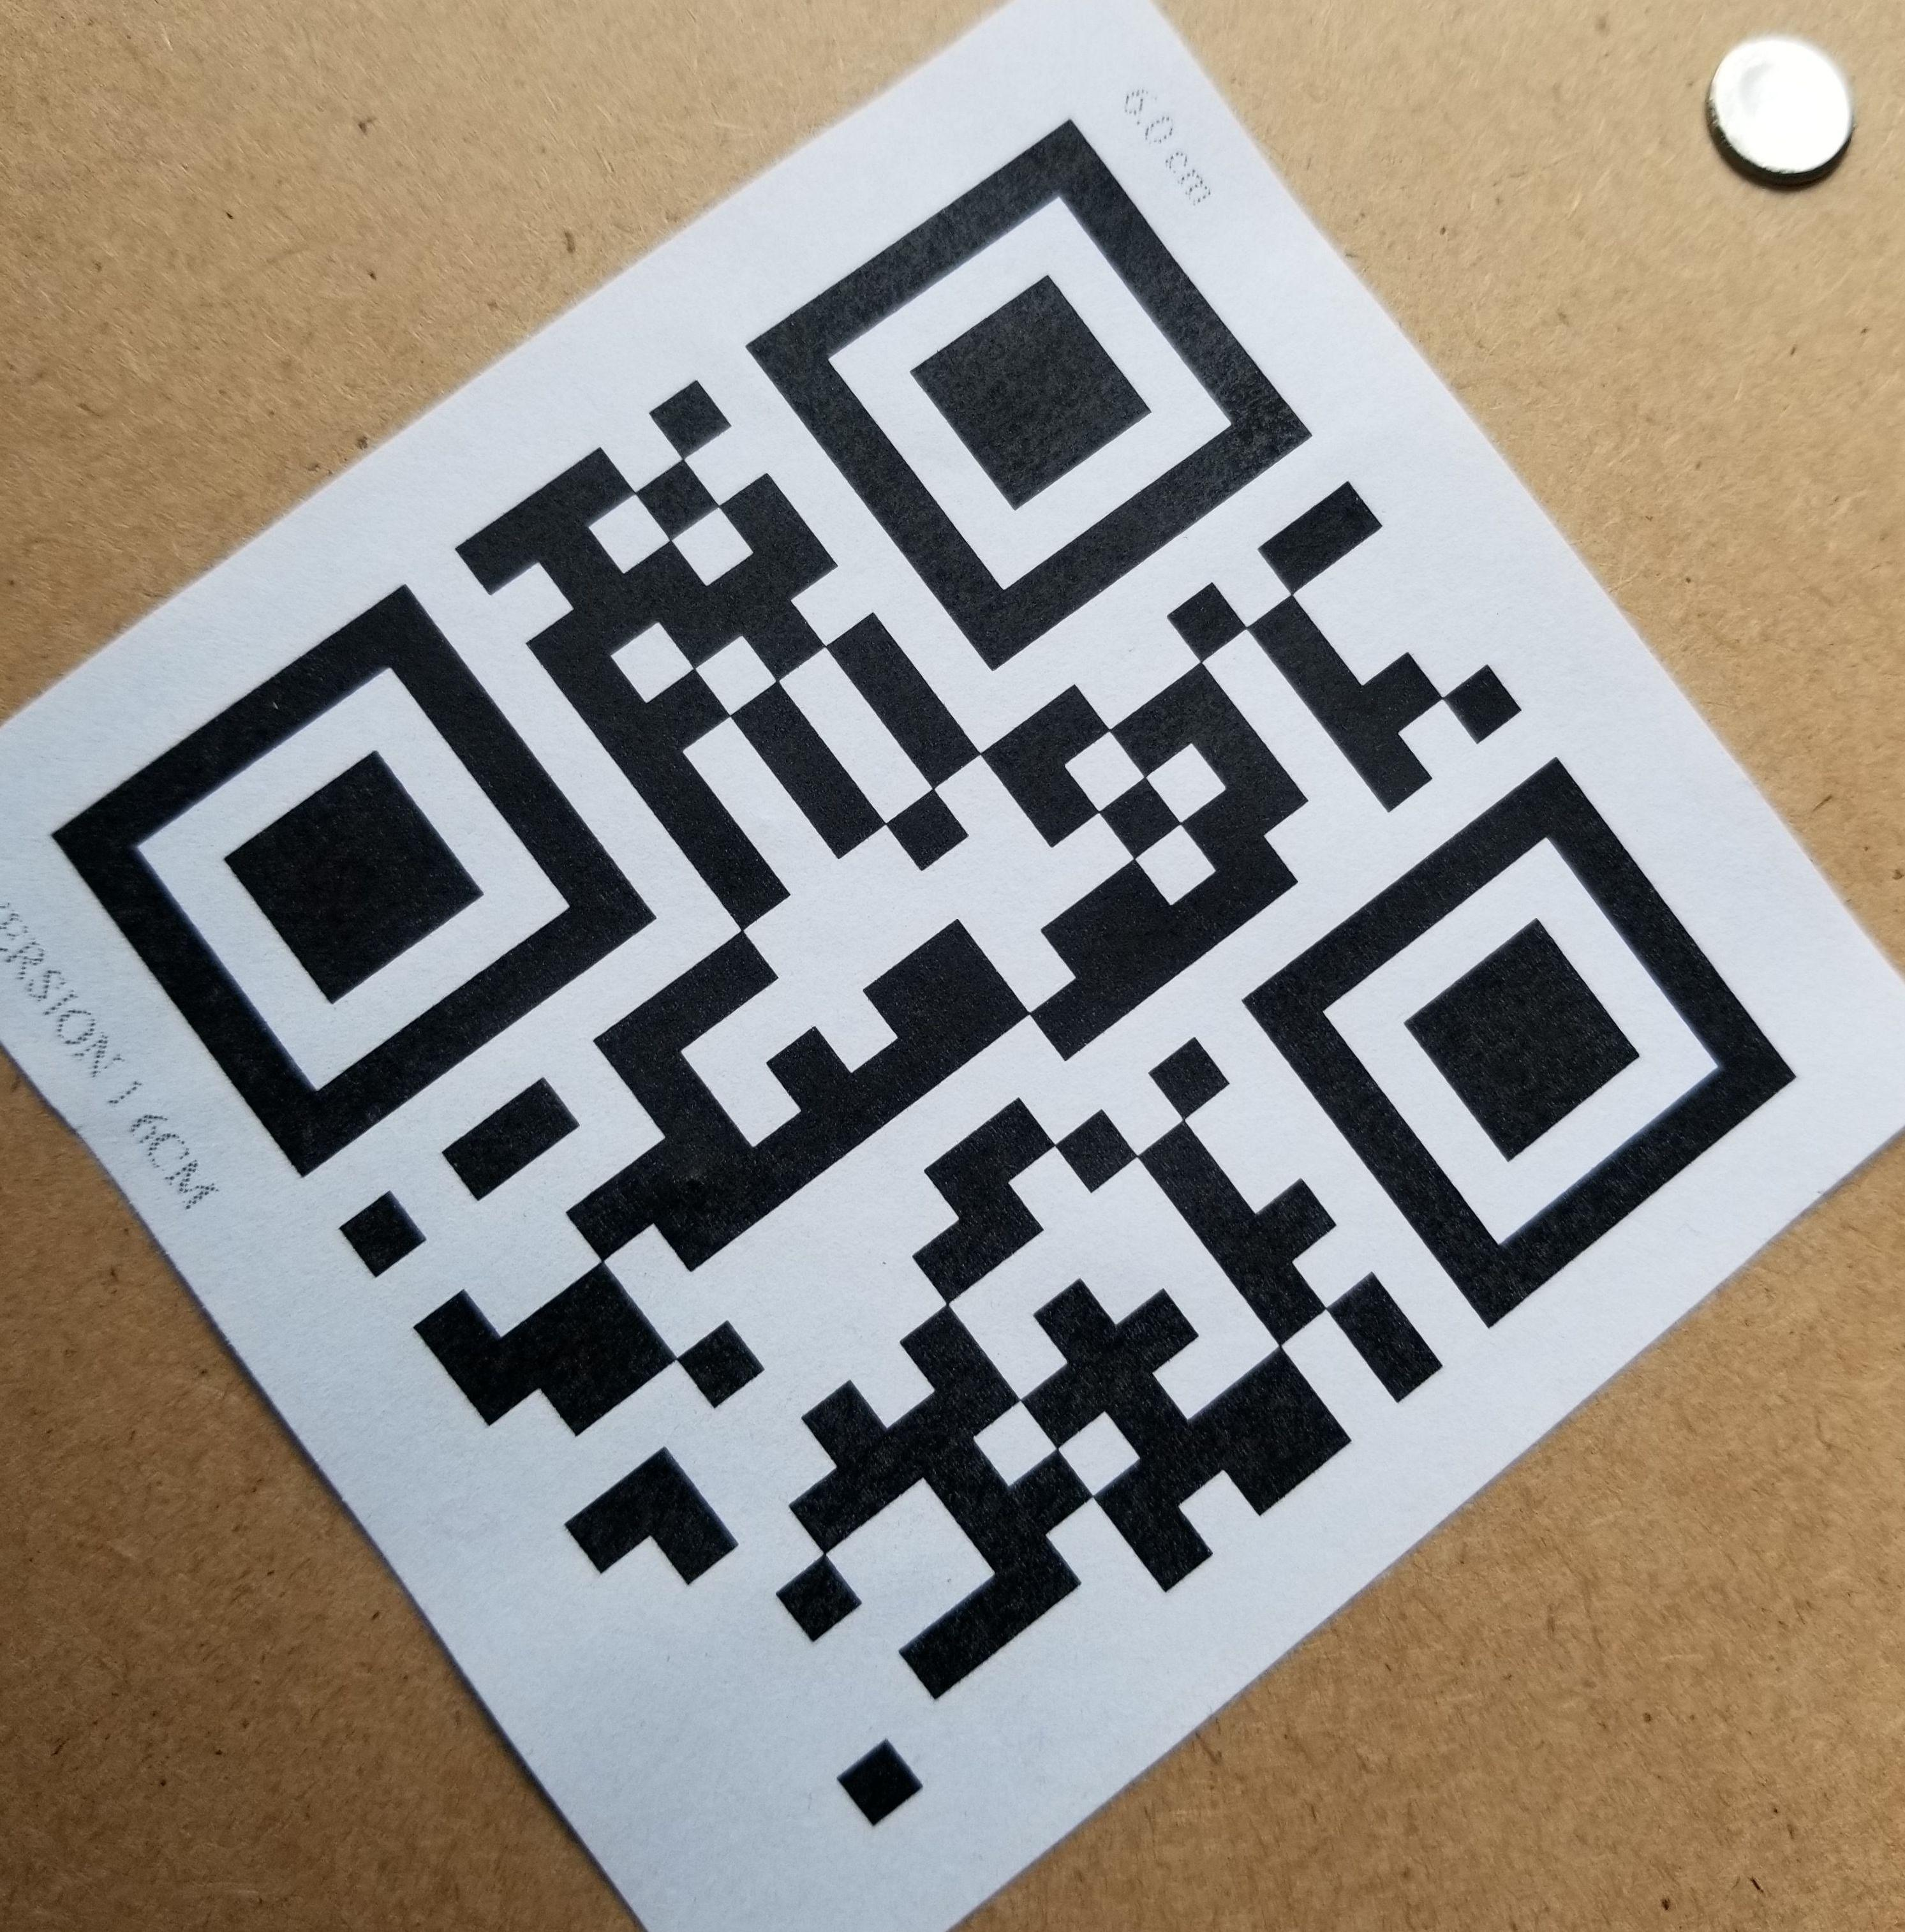qrcode: (56, 113, 1793, 1829)
